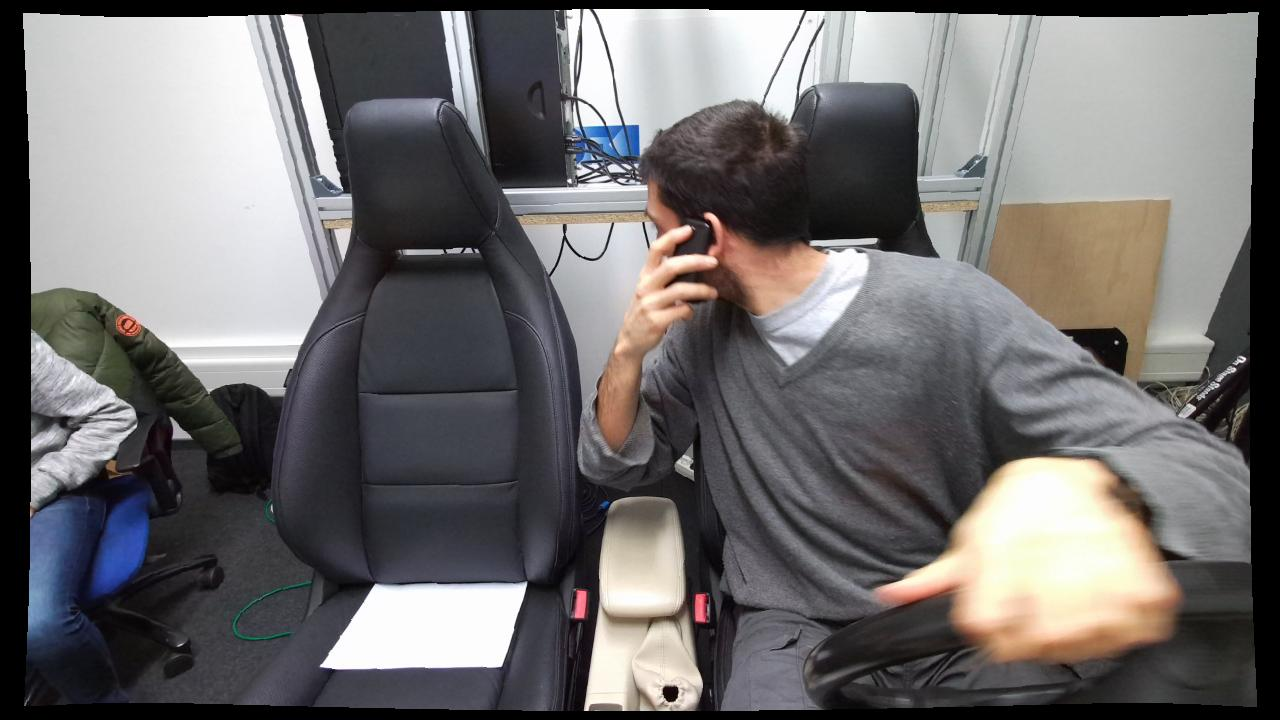Distracted: (566, 104, 1010, 718), (568, 104, 1010, 718)
PhoneUse: (615, 206, 738, 344)
